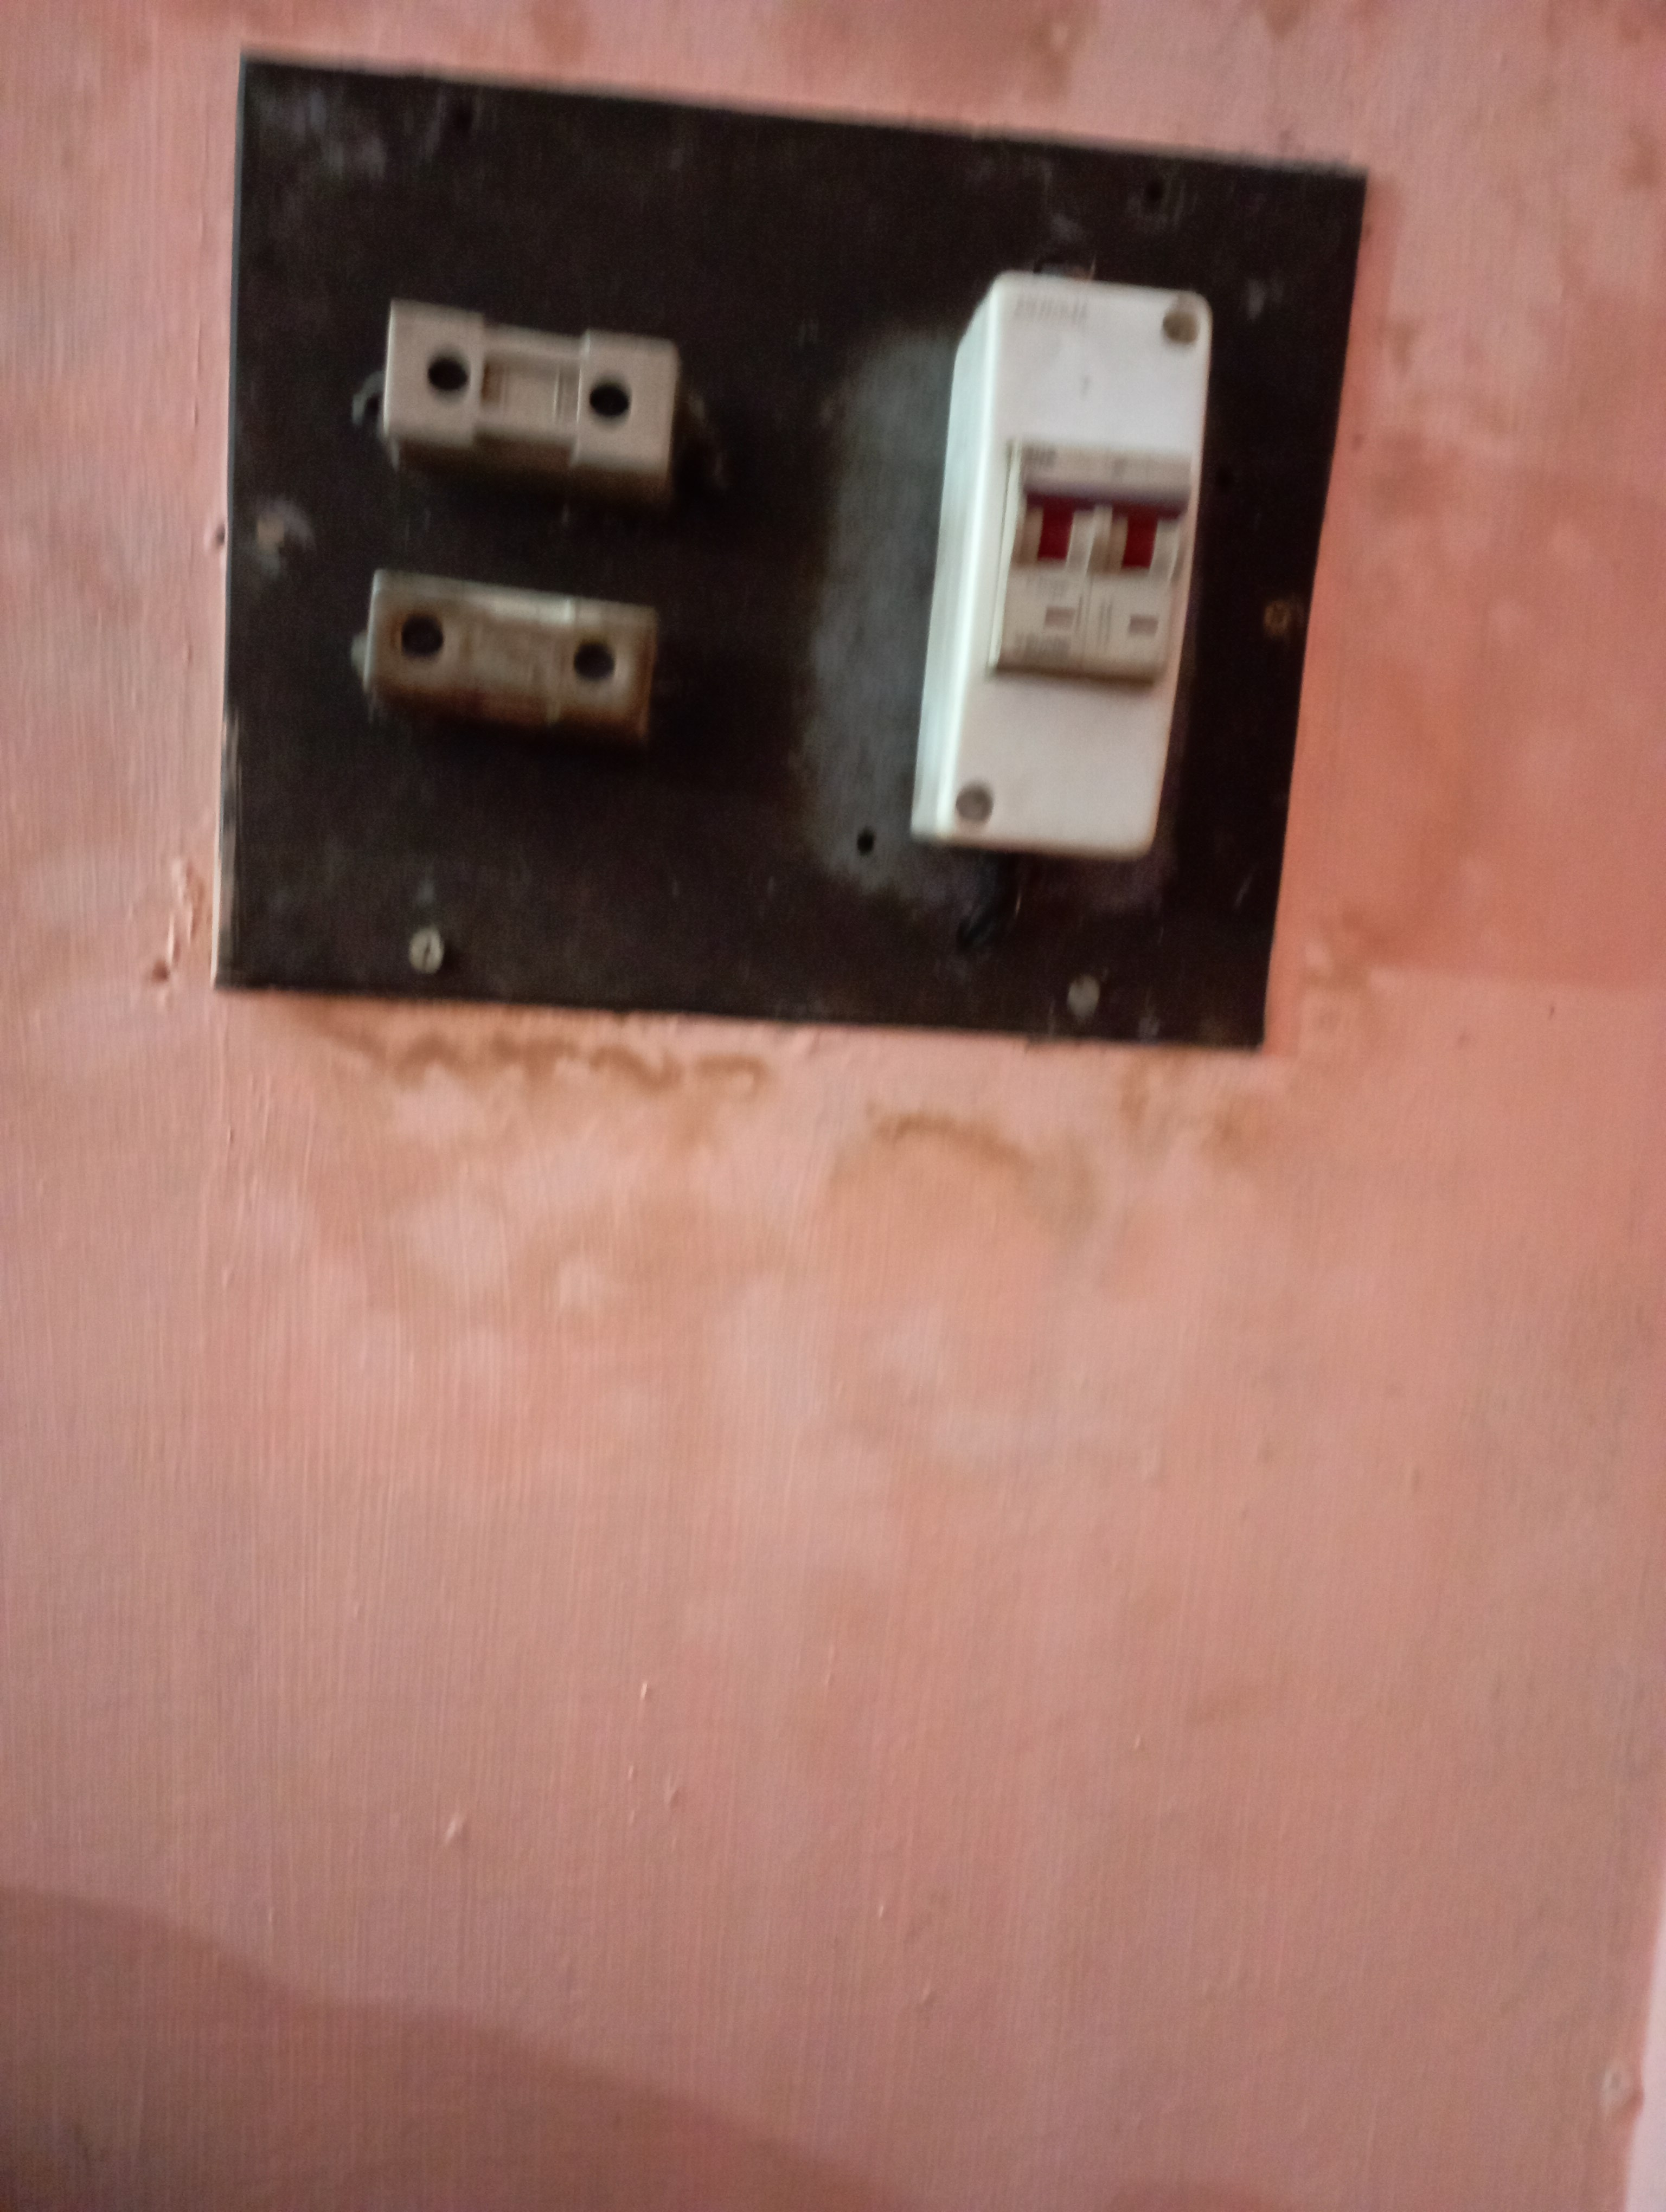ciruit_breaker: (900, 247, 1199, 887)
fuse: (352, 269, 705, 498), (352, 554, 670, 727)
